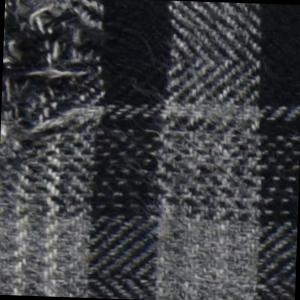Damage: (1, 1, 116, 180)
